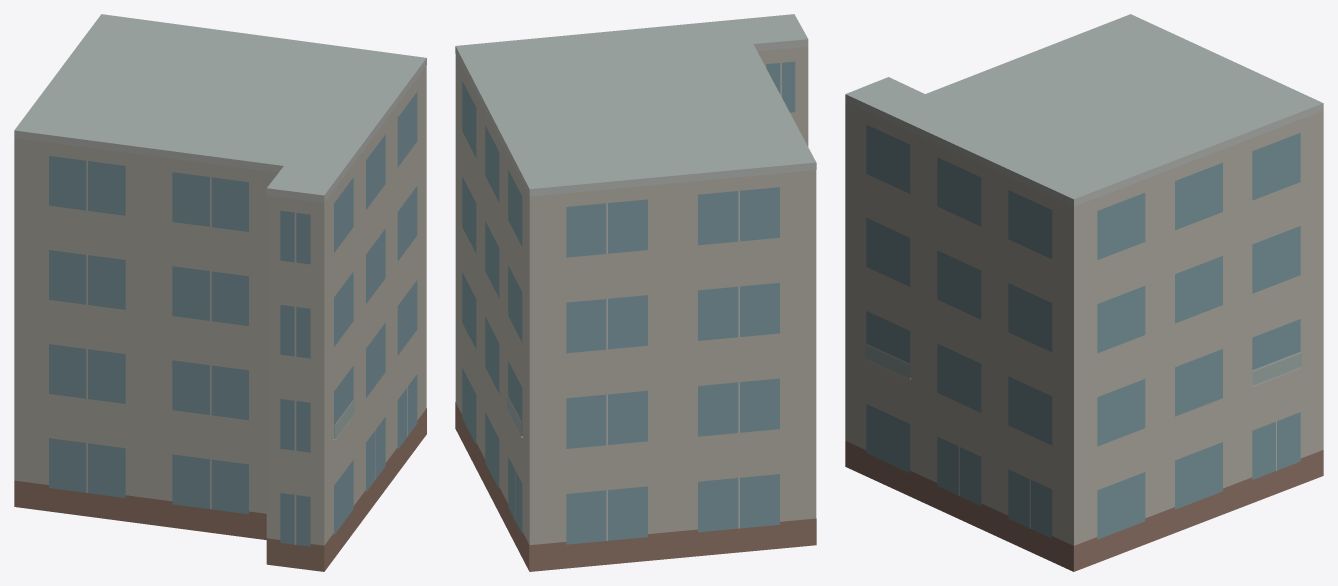
The model's file is survey-upis-32901841.glb.
3 views of the same model, side by side, from view 1: azimuth 30°, elevation 25°; view 2: azimuth 150°, elevation 25°; view 3: azimuth 270°, elevation 25° (orthographic). The views are drawn at different scales.
Visible parts, largest first — view 1: survey-upis-32901841.tmp; view 2: survey-upis-32901841.tmp; view 3: survey-upis-32901841.tmp.
Part boxes in pixels (box(x1,y1,x2,y2)): survey-upis-32901841.tmp: box(14, 14, 426, 571); survey-upis-32901841.tmp: box(455, 14, 816, 571); survey-upis-32901841.tmp: box(845, 14, 1323, 571).
Size of the model in its own units: 13.24 by 12.4 by 14.44.
